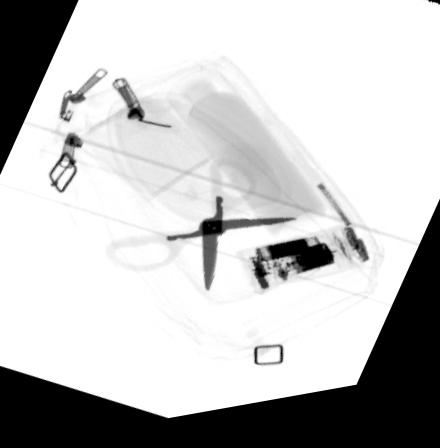Scissors: (102, 167, 298, 300)
